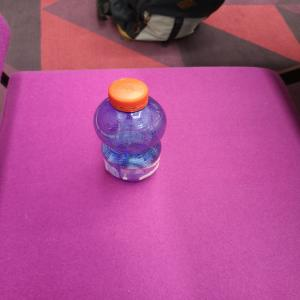Plastic-bottle: (92, 78, 170, 185)
